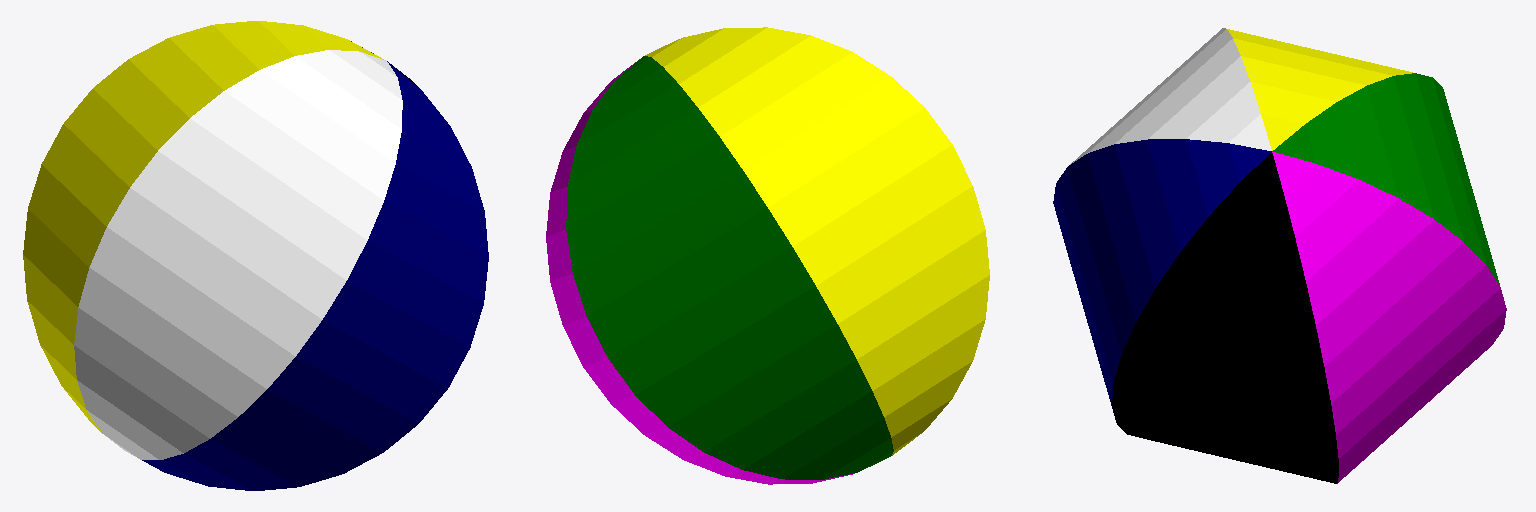
3 renders of one model, left to right at view 1: azimuth 30°, elevation 25°; view 2: azimuth 150°, elevation 25°; view 3: azimuth 270°, elevation 25°, orthographic.
Parts seen in each view (by area): view 1: Sphere; view 2: Sphere; view 3: Sphere.
Boxes of the visible parts, x1=… form: Sphere: x1=23, y1=21, x2=488, y2=490; Sphere: x1=546, y1=27, x2=989, y2=484; Sphere: x1=1053, y1=28, x2=1506, y2=483.
Bounding box in the file's own units: 21.96 × 21.99 × 21.57.
Materials: 1 (1 with a texture image).